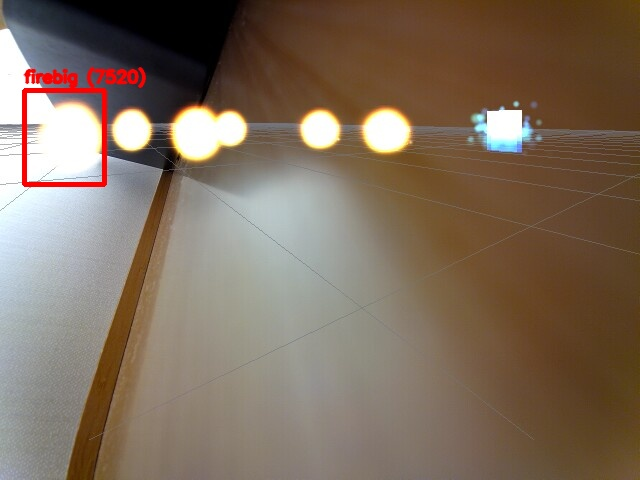firebig: (24, 90, 104, 184)
